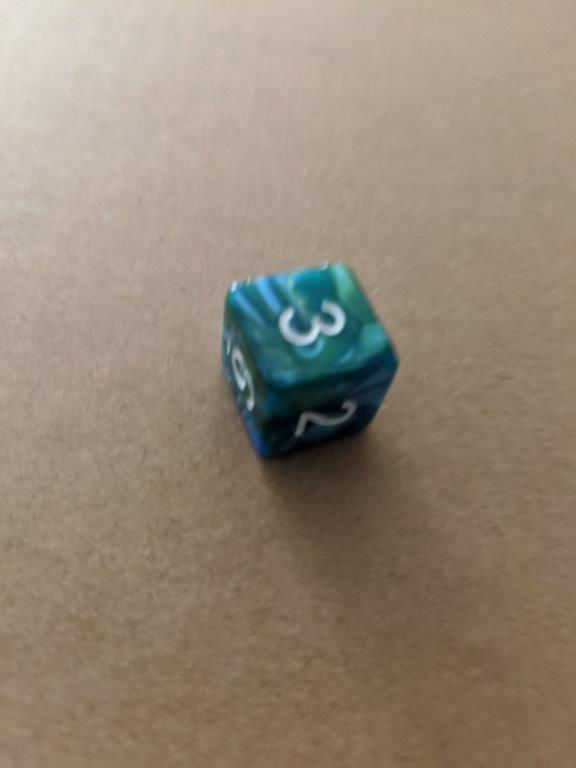d6-3: (216, 260, 399, 464)
